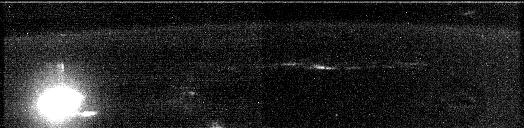positive: (54, 61, 66, 76)
